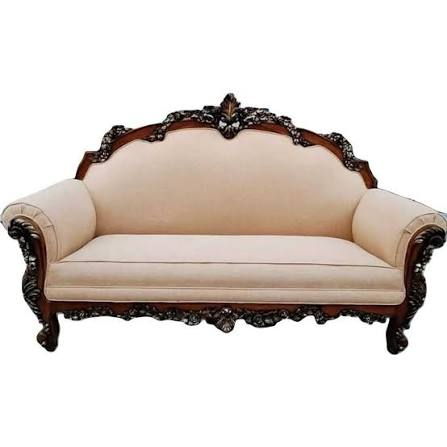3seatersofa: (4, 96, 446, 353)
backrest: (76, 91, 376, 238)
leftarmrest: (353, 189, 446, 266)
leg: (11, 219, 445, 354)
rightarmrest: (2, 180, 95, 263)
seat: (46, 235, 403, 304)
